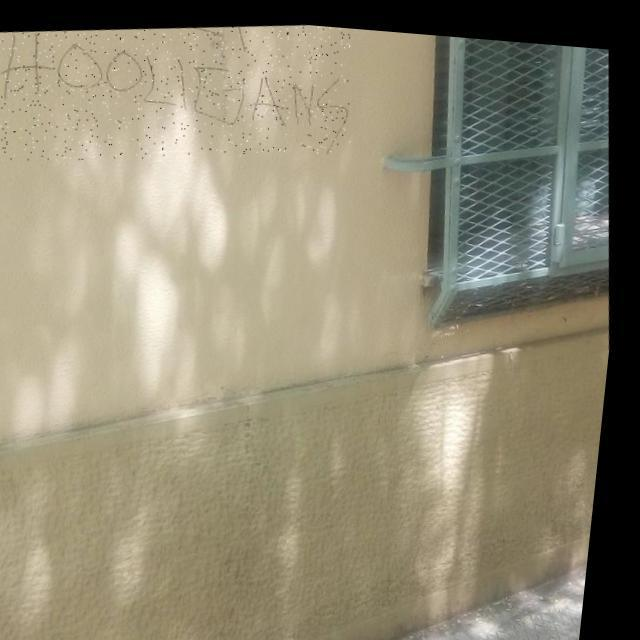-: (0, 0, 363, 184)
